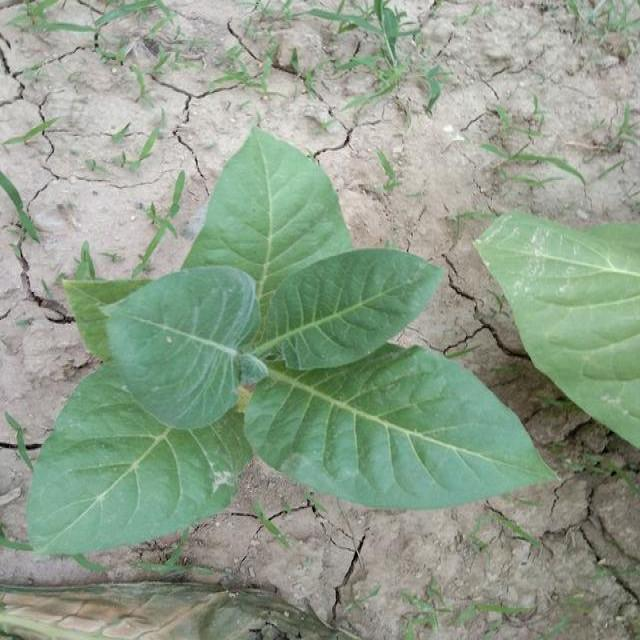crop: (21, 127, 562, 558)
